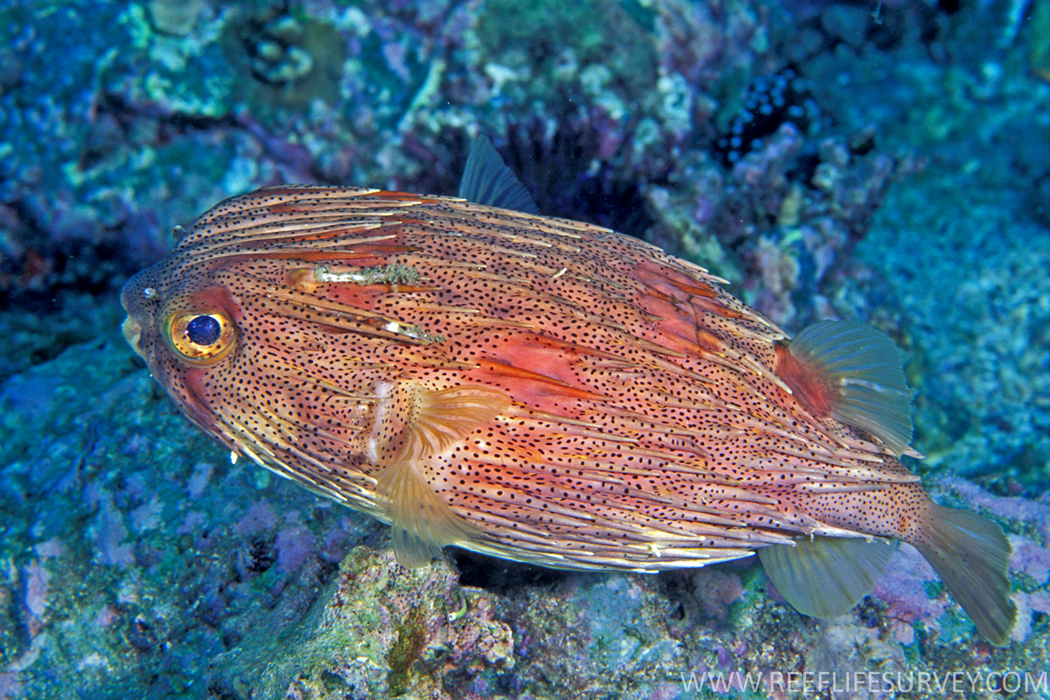Diodon_holocanthus: (113, 171, 1032, 634)
